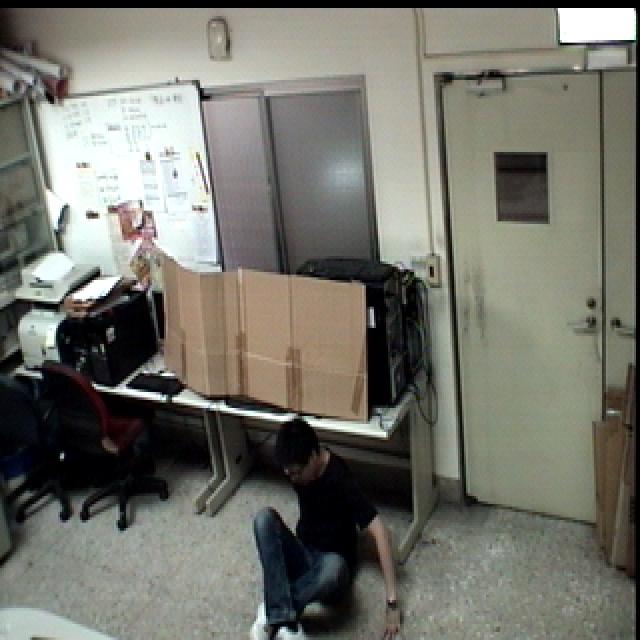sit: (246, 405, 410, 640)
